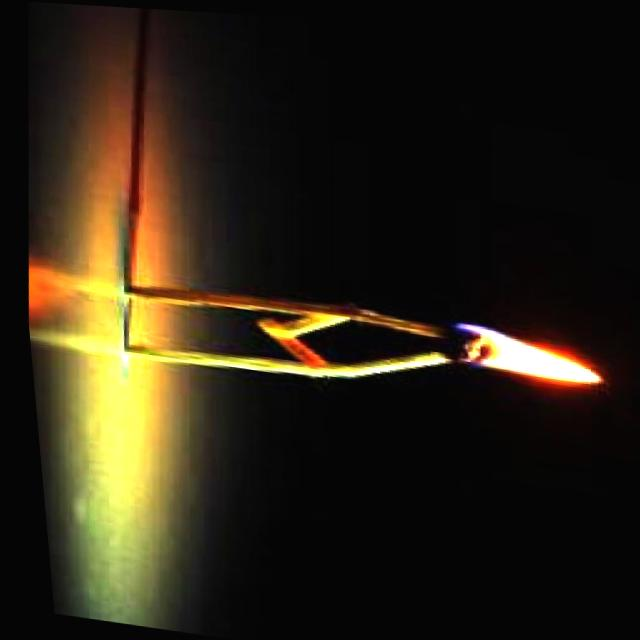Fire: (447, 317, 599, 379)
